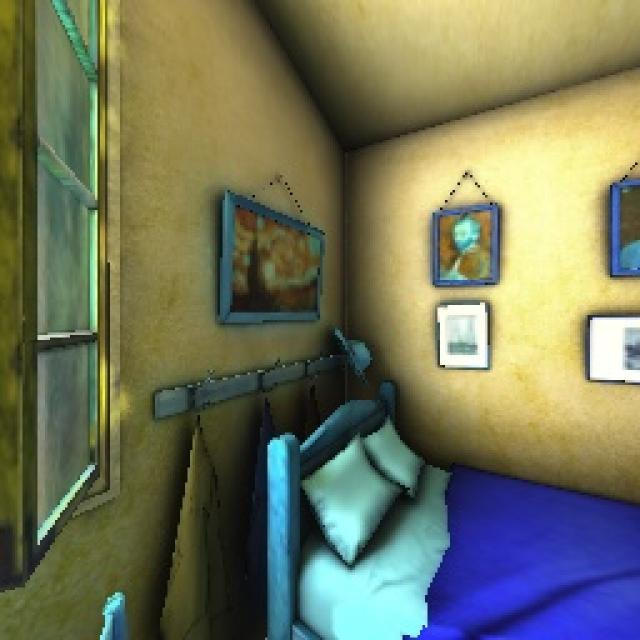bed: (237, 385, 640, 640)
